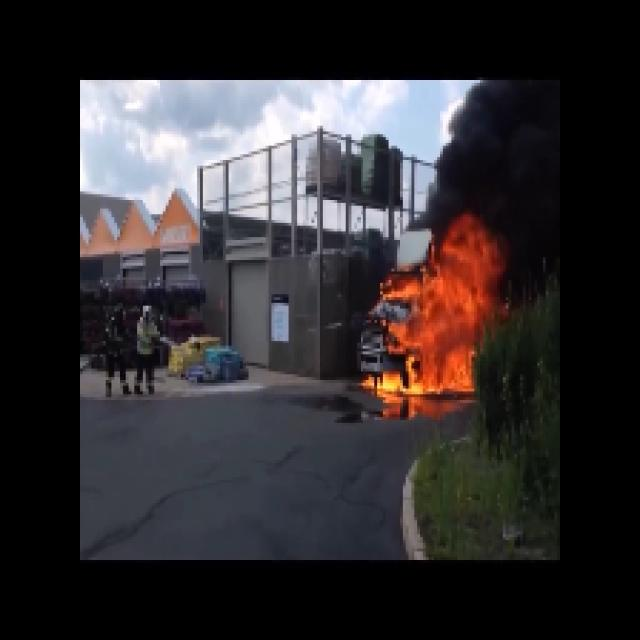fire: (398, 243, 482, 401)
smoke: (435, 91, 519, 204)
